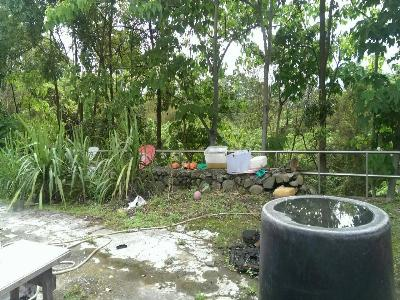box: (225, 150, 250, 174), (205, 145, 227, 167)
bucket: (256, 194, 394, 300)
styrofoam: (246, 154, 265, 170)
